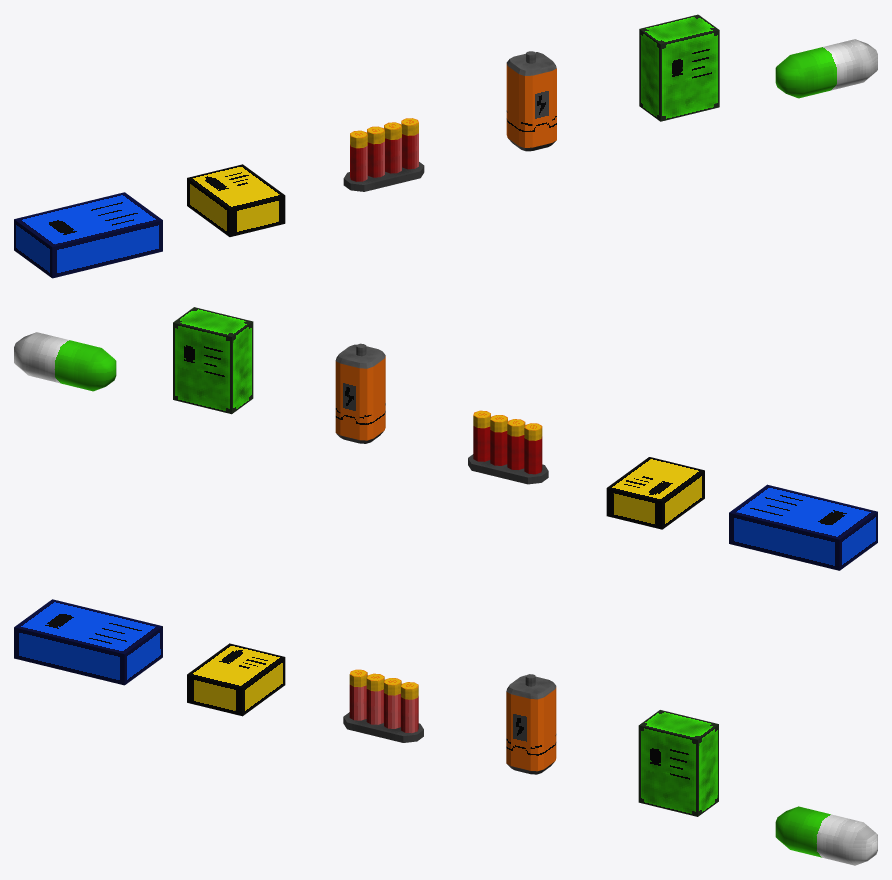
Rendered from ammon.glb.
3 renders of one model, top to bottom at view 1: azimuth 30°, elevation 25°; view 2: azimuth 150°, elevation 25°; view 3: azimuth 330°, elevation 25°, orthographic.
Parts seen in each view (by area): view 1: pistol, explosive, rifle, energy, health, Cylinder, shotgun; view 2: pistol, explosive, rifle, energy, health, Cylinder, shotgun; view 3: pistol, explosive, rifle, energy, health, Cylinder, shotgun.
Boxes of the visible parts, x1,y1,x2,y2 form: pistol: [14, 192, 162, 278]; explosive: [639, 14, 719, 121]; rifle: [187, 164, 285, 236]; energy: [506, 51, 556, 151]; health: [775, 39, 877, 98]; Cylinder: [350, 118, 418, 181]; shotgun: [343, 162, 424, 191]; pistol: [729, 484, 877, 570]; explosive: [173, 307, 253, 414]; rifle: [606, 457, 704, 529]; energy: [335, 343, 385, 443]; health: [14, 332, 116, 391]; Cylinder: [473, 410, 542, 474]; shotgun: [468, 454, 548, 484]; pistol: [14, 599, 162, 685]; explosive: [638, 710, 718, 816]; rifle: [187, 643, 285, 716]; energy: [506, 674, 556, 774]; health: [775, 806, 877, 865]; Cylinder: [349, 669, 418, 733]; shotgun: [343, 712, 423, 742].
Bounding box in the file's own units: 11.43 × 1.38 × 1.
1 material, 1 textured.
